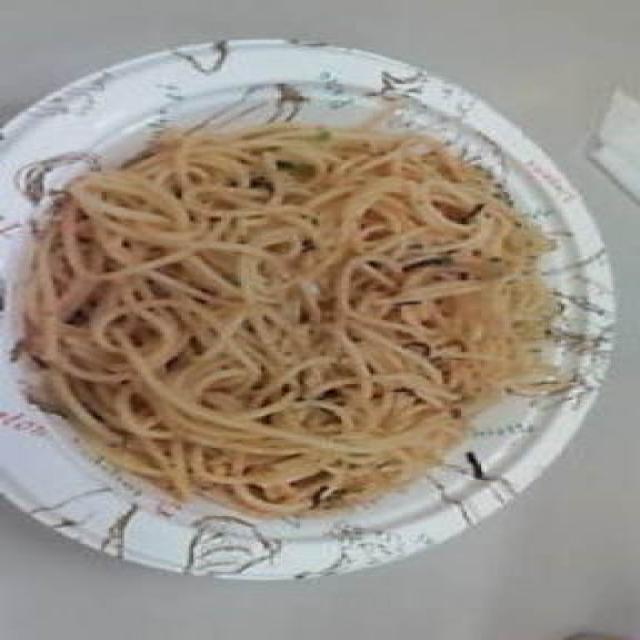Pasta: (58, 136, 530, 502)
